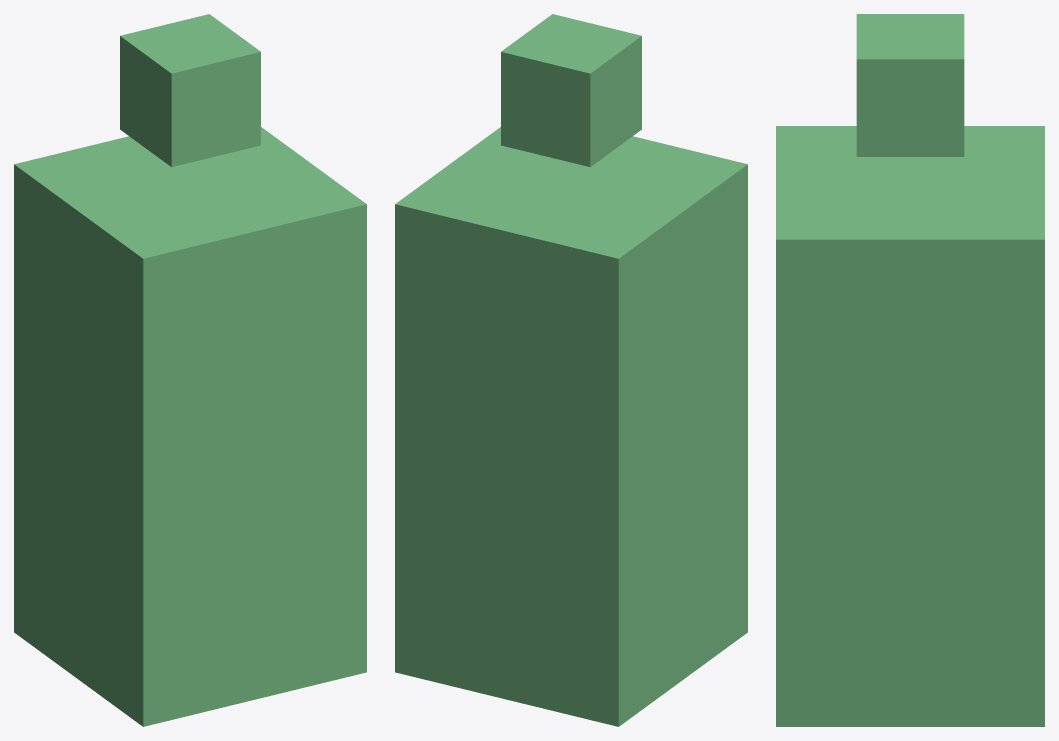
Rendered from 03_battery.glb.
3 views of the same model, side by side, from view 1: azimuth 30°, elevation 25°; view 2: azimuth 150°, elevation 25°; view 3: azimuth 270°, elevation 25° (orthographic). The views are drawn at different scales.
Visible parts, largest first — view 1: energy_03_battery; view 2: energy_03_battery; view 3: energy_03_battery.
Boxes of the visible parts, x1,y1,x2,y2 form: energy_03_battery: (14, 14, 366, 726); energy_03_battery: (395, 14, 747, 726); energy_03_battery: (776, 14, 1044, 726).
Size of the model in its own units: 0.2 by 0.52 by 0.2.
